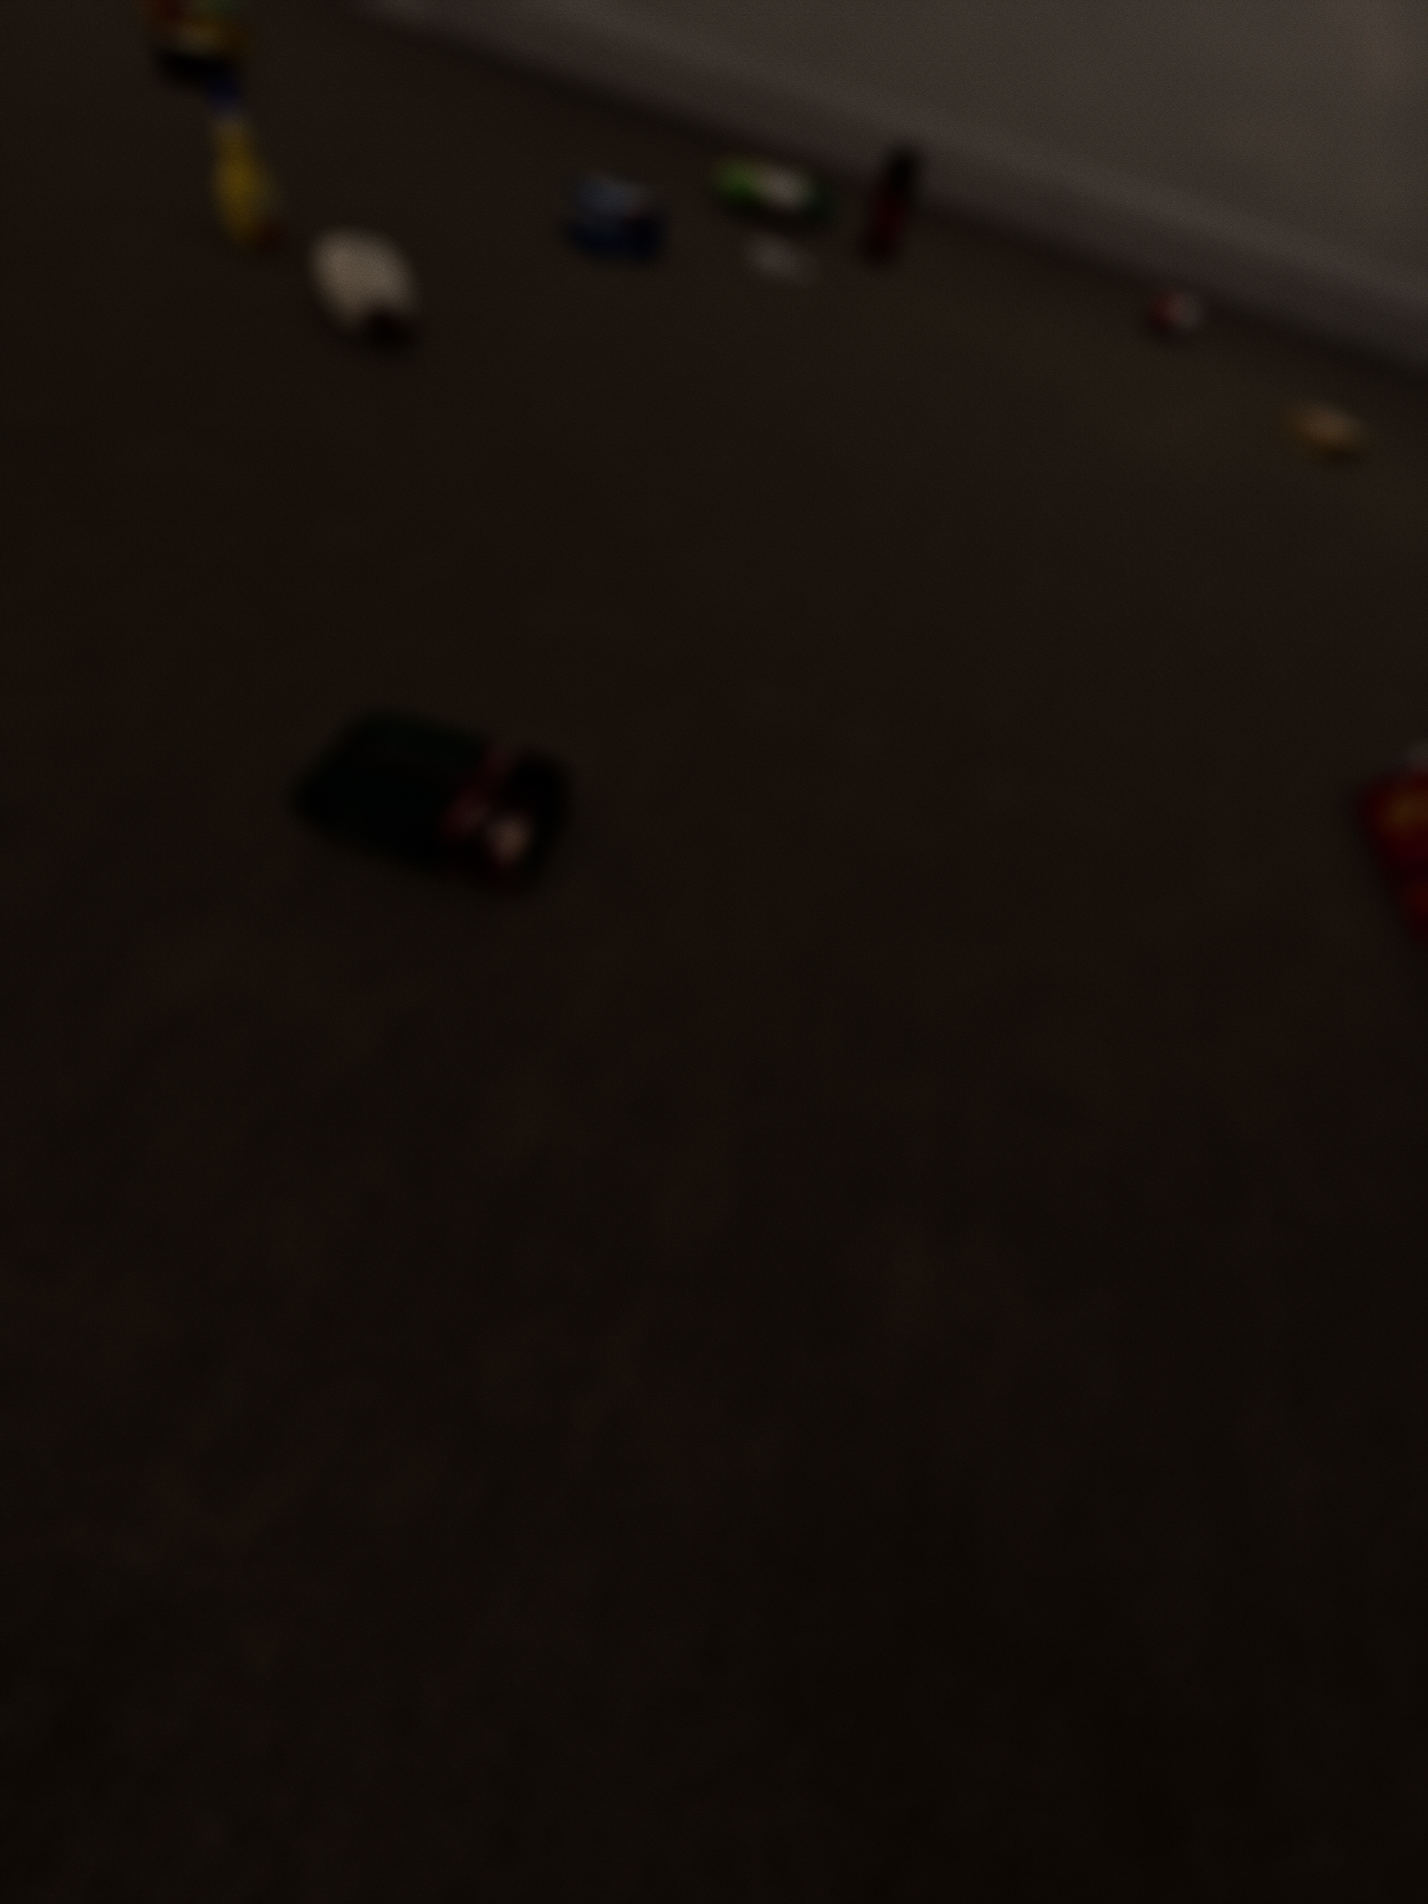soup: (332, 1001, 621, 1228)
